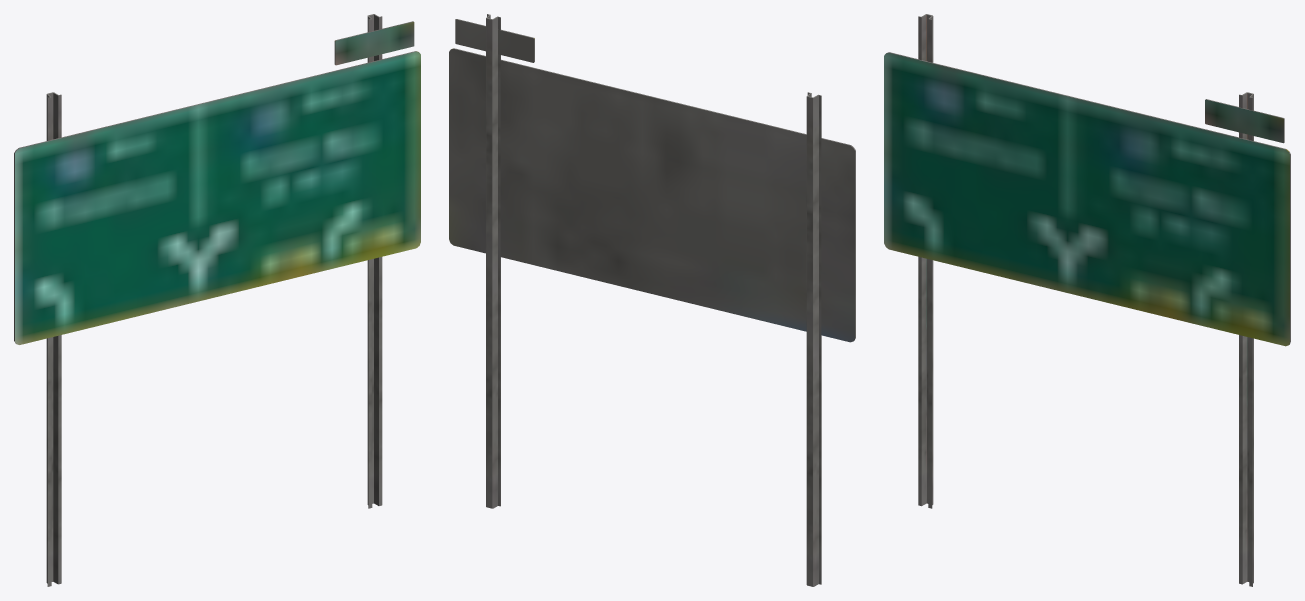
File: road-sign.lod1.glb
3 renders of one model, left to right at view 1: azimuth 30°, elevation 25°; view 2: azimuth 150°, elevation 25°; view 3: azimuth 330°, elevation 25°, orthographic.
Visible parts, largest first — view 1: Object_96; view 2: Object_96; view 3: Object_96.
Boxes of the visible parts, left/top/right/bottom form: Object_96: left=14, top=14, right=420, bottom=586; Object_96: left=449, top=14, right=855, bottom=586; Object_96: left=884, top=14, right=1290, bottom=586.
Bounding box in the file's own units: 2.26 × 2.6 × 0.0511.
Materials: 1 (1 with a texture image).
